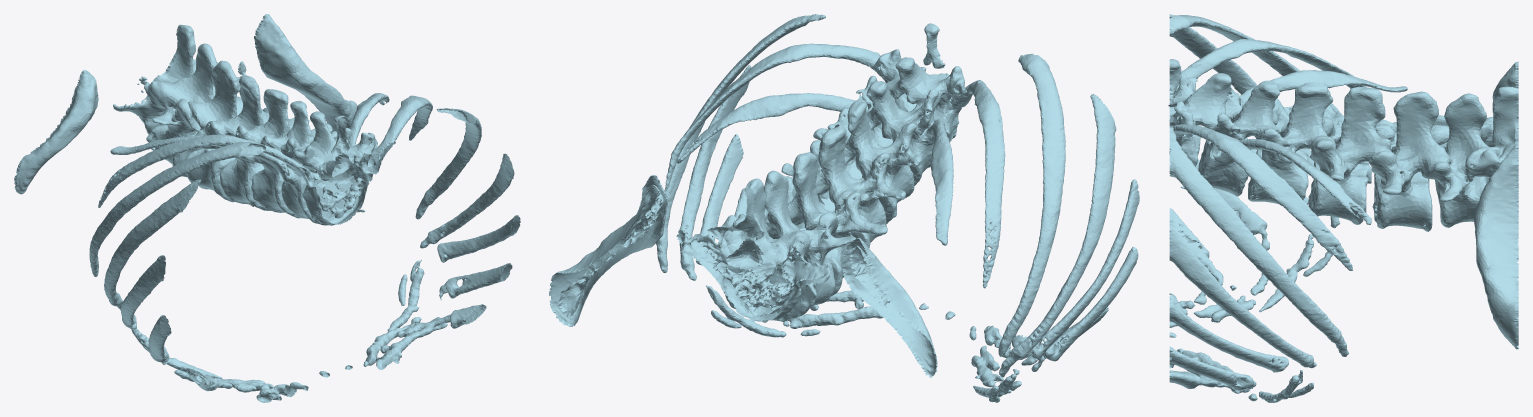
File: bone.obj
The picture shows the model from 3 angles, left to right: view 1: azimuth 30°, elevation 25°; view 2: azimuth 150°, elevation 25°; view 3: azimuth 270°, elevation 25°; orthographic projection. The views are drawn at different scales.
Parts seen in each view (by area): view 1: grp1; view 2: grp1; view 3: grp1.
Boxes of the visible parts, x1,y1,x2,y2 form: grp1: (14, 14, 520, 402); grp1: (549, 14, 1139, 402); grp1: (1168, 14, 1518, 402).
Size of the model in its own units: 265 by 189 by 204.
